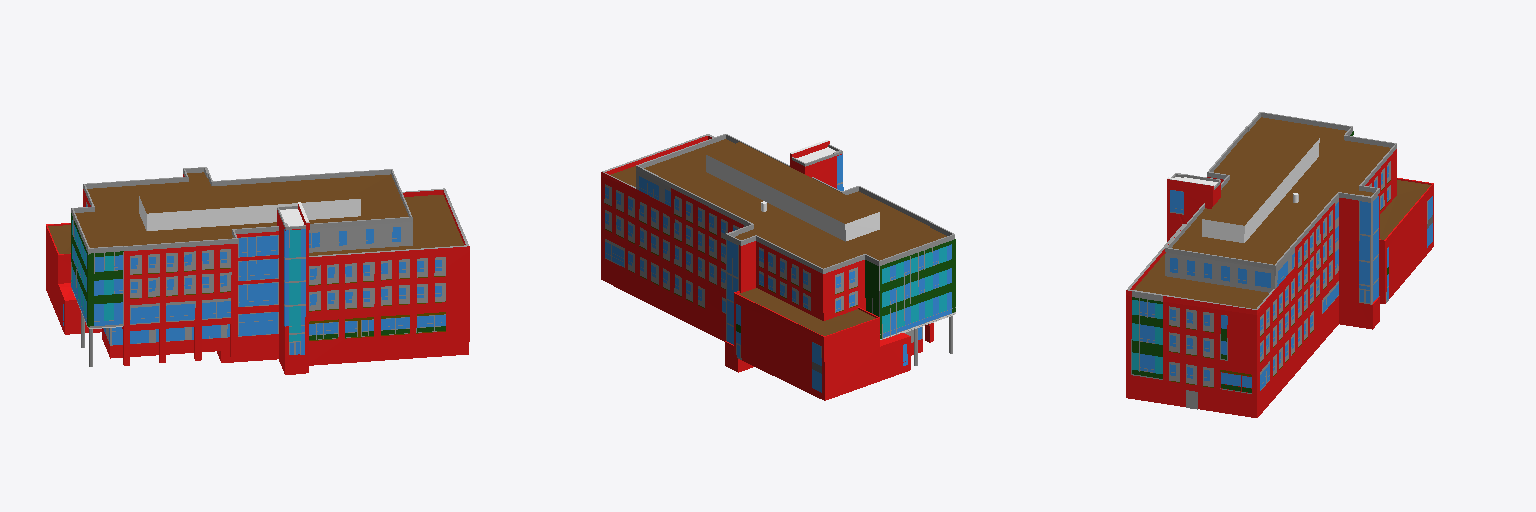
The model's file is PublicPolicy.obj.
3 renders of one model, left to right at view 1: azimuth 30°, elevation 25°; view 2: azimuth 150°, elevation 25°; view 3: azimuth 270°, elevation 25°, orthographic.
Parts seen in each view (by area): view 1: SM_PublicPolicy_Bldg, SM_PublicPolicy_Wndws; view 2: SM_PublicPolicy_Bldg, SM_PublicPolicy_Wndws; view 3: SM_PublicPolicy_Bldg, SM_PublicPolicy_Wndws.
Part boxes in pixels (left/top/right/bottom): SM_PublicPolicy_Bldg: left=46, top=167, right=469, bottom=374; SM_PublicPolicy_Wndws: left=63, top=202, right=445, bottom=354; SM_PublicPolicy_Bldg: left=601, top=134, right=955, bottom=400; SM_PublicPolicy_Wndws: left=604, top=154, right=955, bottom=392; SM_PublicPolicy_Bldg: left=1126, top=112, right=1433, bottom=417; SM_PublicPolicy_Wndws: left=1132, top=131, right=1432, bottom=409.
Size of the model in its own units: 6441 by 2620 by 4819.